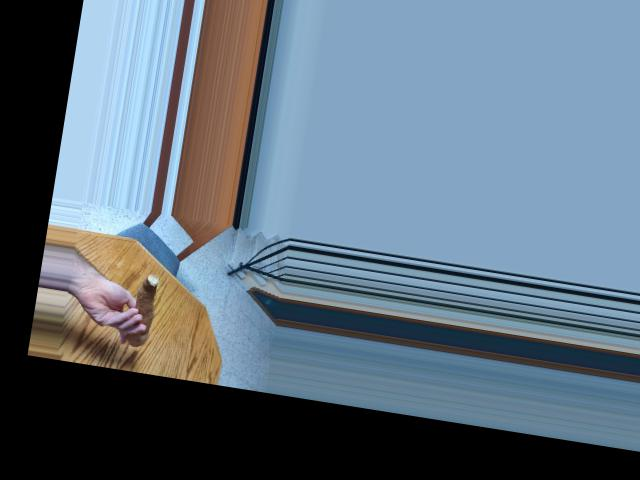sweet_potato: (133, 271, 158, 336)
